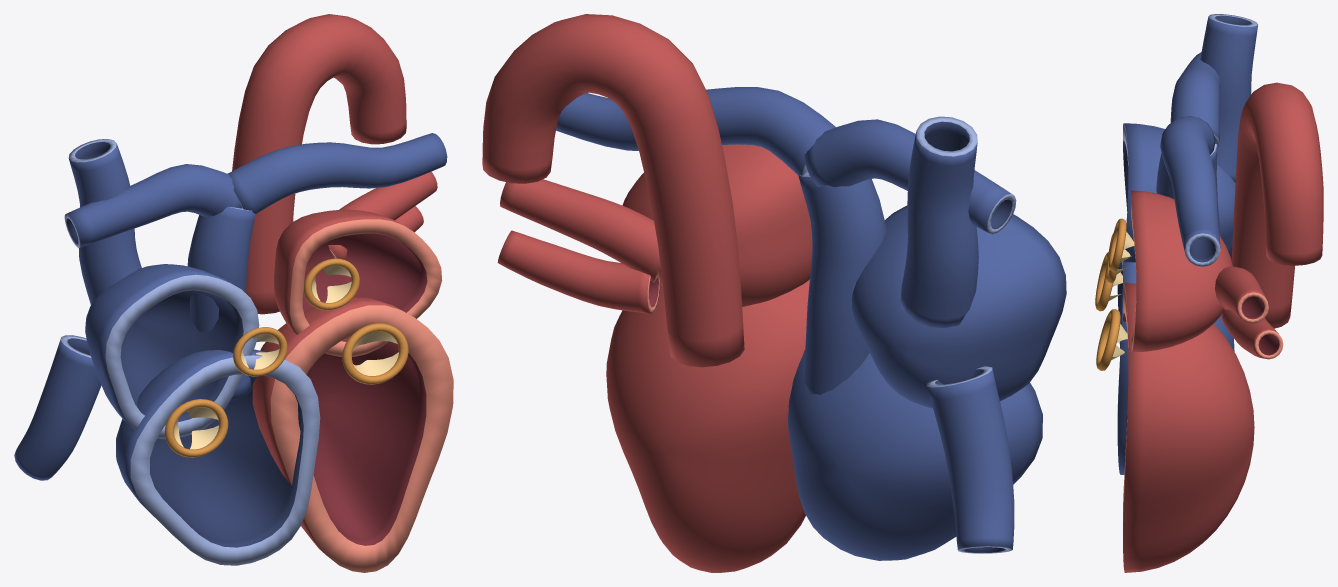
The model's file is heart-cutaway.glb.
3 views of the same model, side by side, from view 1: azimuth 30°, elevation 25°; view 2: azimuth 150°, elevation 25°; view 3: azimuth 270°, elevation 25° (orthographic). The views are drawn at different scales.
Visible parts, largest first — view 1: left_ventricle, right_ventricle, aorta, right_atrium, left_atrium, left_pulmonary_artery, right_pulmonary_artery, inferior_vena_cava, superior_vena_cava, pulmonary_trunk, pulmonary_veins, mitral_valve (+3 smaller); view 2: aorta, left_ventricle, right_ventricle, right_atrium, pulmonary_veins, superior_vena_cava, pulmonary_trunk, left_atrium, inferior_vena_cava, left_pulmonary_artery, right_pulmonary_artery; view 3: left_ventricle, aorta, left_atrium, left_pulmonary_artery, superior_vena_cava, right_atrium, pulmonary_veins, right_pulmonary_artery, right_ventricle, mitral_valve, aortic_valve, tricuspid_valve (+1 smaller).
Part boxes in pixels (box(x1,y1,x2,y2)): left_ventricle: box(252, 297, 453, 572); right_ventricle: box(116, 349, 320, 565); aorta: box(232, 14, 406, 314); right_atrium: box(85, 264, 259, 439); left_atrium: box(274, 209, 442, 356); left_pulmonary_artery: box(227, 133, 447, 213); right_pulmonary_artery: box(64, 164, 242, 247); inferior_vena_cava: box(14, 335, 101, 480); superior_vena_cava: box(68, 139, 141, 304); pulmonary_trunk: box(187, 206, 255, 401); pulmonary_veins: box(328, 171, 437, 259); mitral_valve: box(342, 323, 408, 384); aorta: box(482, 14, 744, 367); left_ventricle: box(606, 279, 809, 572); right_ventricle: box(788, 349, 1042, 560); right_atrium: box(851, 205, 1066, 408); pulmonary_veins: box(497, 179, 660, 313); superior_vena_cava: box(900, 116, 978, 328); pulmonary_trunk: box(798, 172, 886, 394); left_atrium: box(622, 144, 812, 306); inferior_vena_cava: box(926, 366, 1014, 553); left_pulmonary_artery: box(556, 87, 835, 175); right_pulmonary_artery: box(804, 119, 1016, 234); left_ventricle: box(1123, 283, 1254, 572); aorta: box(1231, 82, 1323, 328); left_atrium: box(1131, 190, 1232, 352); left_pulmonary_artery: box(1160, 116, 1220, 266); superior_vena_cava: box(1200, 14, 1257, 182); right_atrium: box(1123, 123, 1235, 262); pulmonary_veins: box(1215, 266, 1283, 359); right_pulmonary_artery: box(1170, 52, 1220, 148); right_ventricle: box(1117, 261, 1234, 474); mitral_valve: box(1096, 309, 1127, 370); aortic_valve: box(1109, 218, 1134, 271); tricuspid_valve: box(1095, 252, 1122, 311).
Bounding box in the file's own units: 0.1541 × 0.1752 × 0.074.
